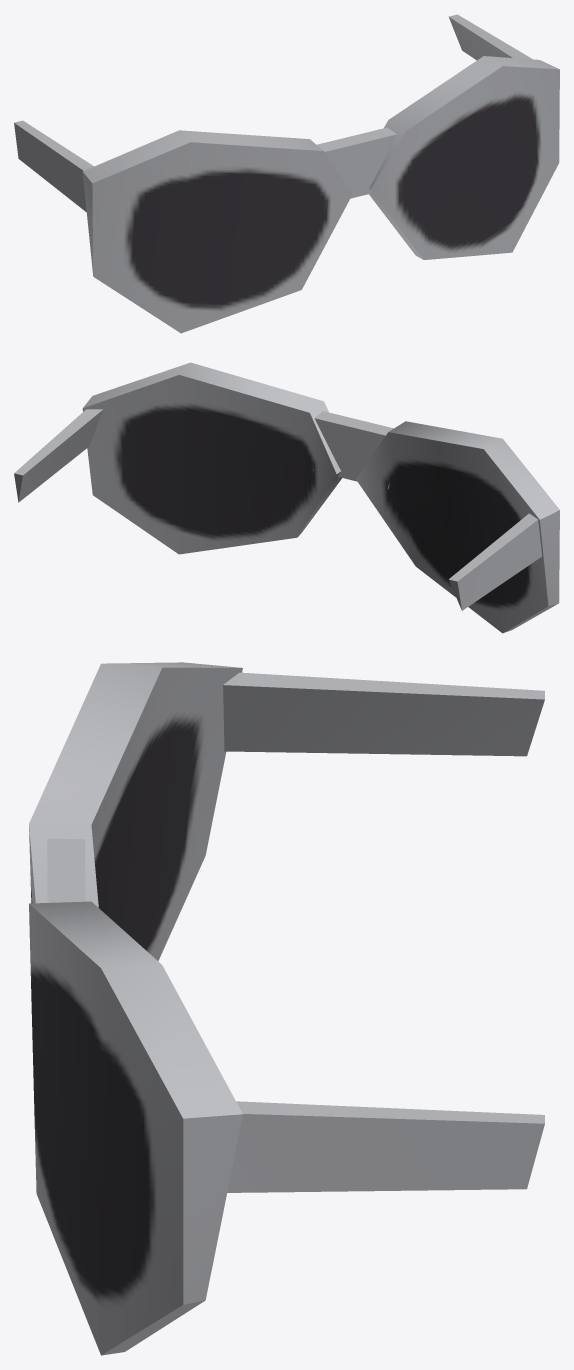
3 views of the same model, one above another, from view 1: azimuth 30°, elevation 25°; view 2: azimuth 150°, elevation 25°; view 3: azimuth 270°, elevation 25° (orthographic). The views are drawn at different scales.
Parts seen in each view (by area): view 1: f_head_add_glasses_B; view 2: f_head_add_glasses_B; view 3: f_head_add_glasses_B.
Part boxes in pixels (x1,y1,x2,y2): f_head_add_glasses_B: (14,14,559,333); f_head_add_glasses_B: (14,362,559,633); f_head_add_glasses_B: (29,662,544,1355).
Size of the model in its own units: 0.6087 by 0.2353 by 0.291.
